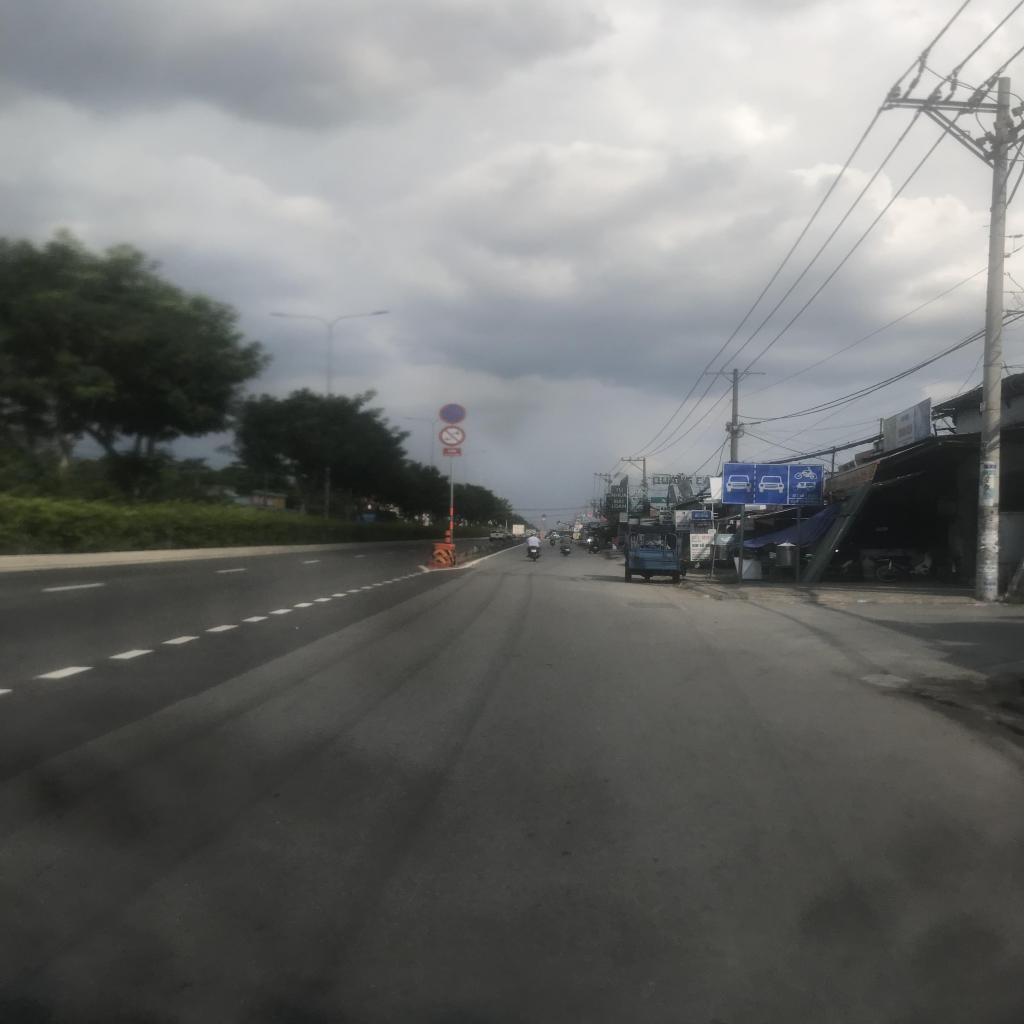cam_dung_xe_va_do_xe: (438, 403, 466, 424), (543, 514, 546, 518)
cam_xe_2_banh_va_xe_3_banh_co_dong_co: (438, 426, 464, 446), (542, 518, 546, 521)
lan_duong_cho_tung_xe_theo_vach_ke_duong: (721, 464, 823, 505)
